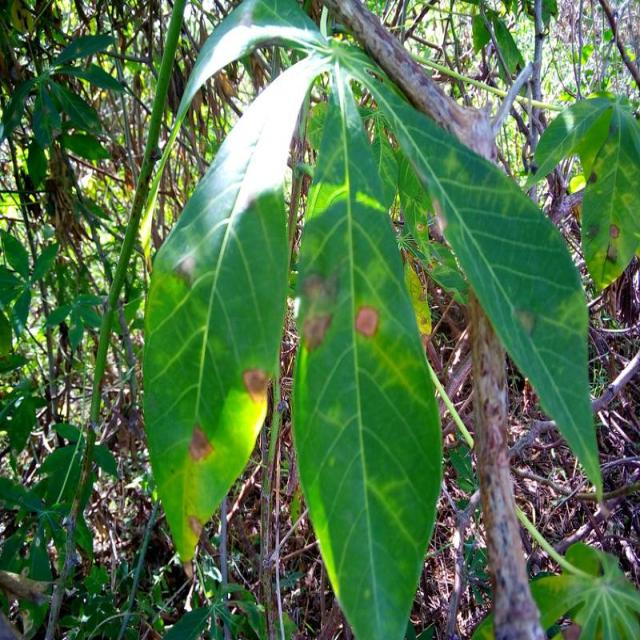cassava leaf: (140, 1, 605, 636), (140, 48, 330, 569), (290, 57, 443, 638)
